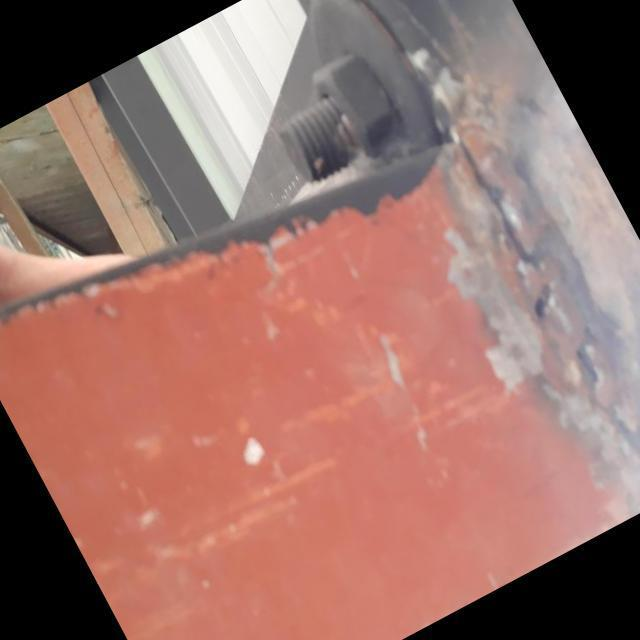defect: (452, 135, 558, 324), (572, 312, 604, 399)
